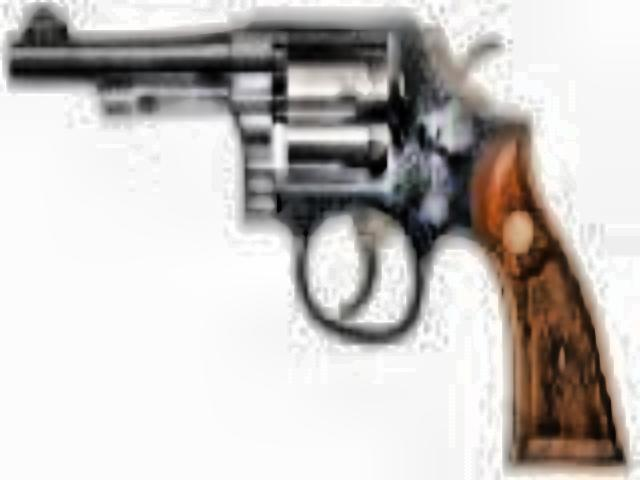pistol: (12, 4, 612, 468)
